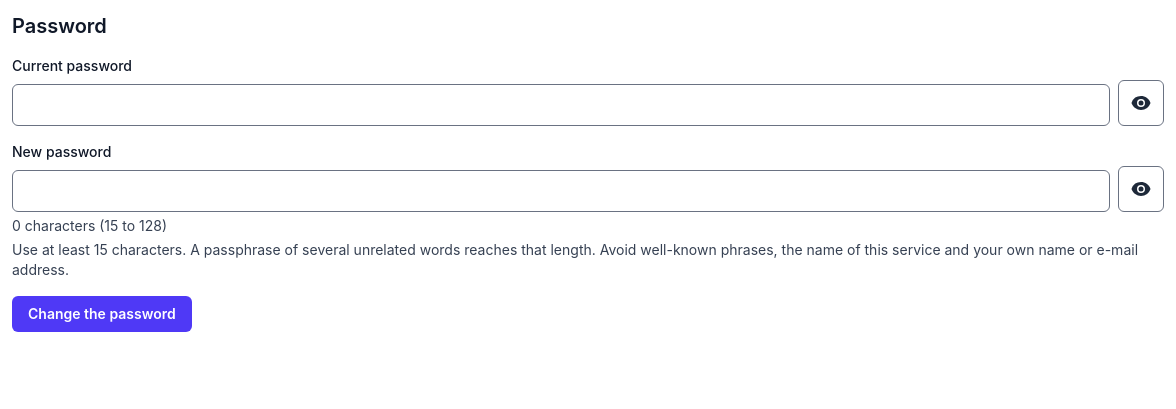
Test: a 422 validation_failed on the current password › invalid shows its message at the current-password field
Step 1. Type "a wrong passphrase" into the password field labelled "Current password" → (561, 105), box x1=12 y1=84 x2=1110 y2=126
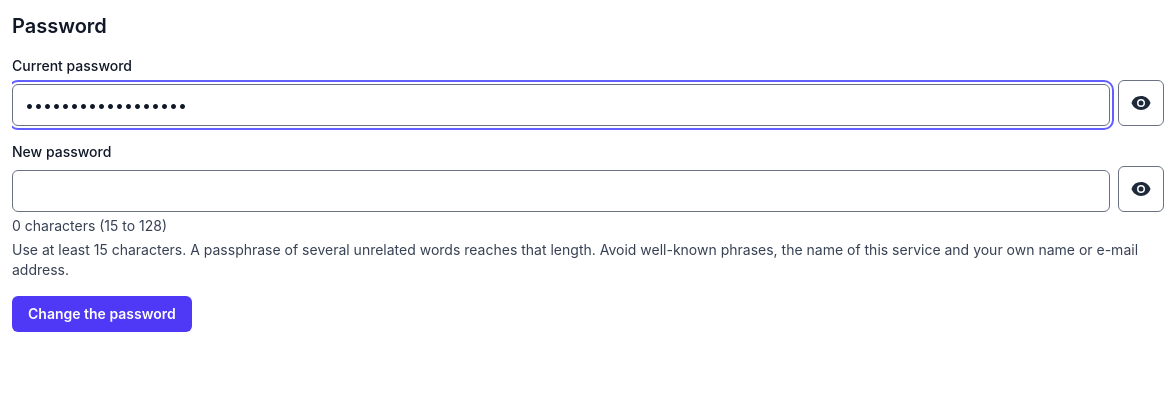
Step 2. Type "a long enough passphrase" into the password field labelled "New password" → (561, 191), box x1=12 y1=170 x2=1110 y2=212
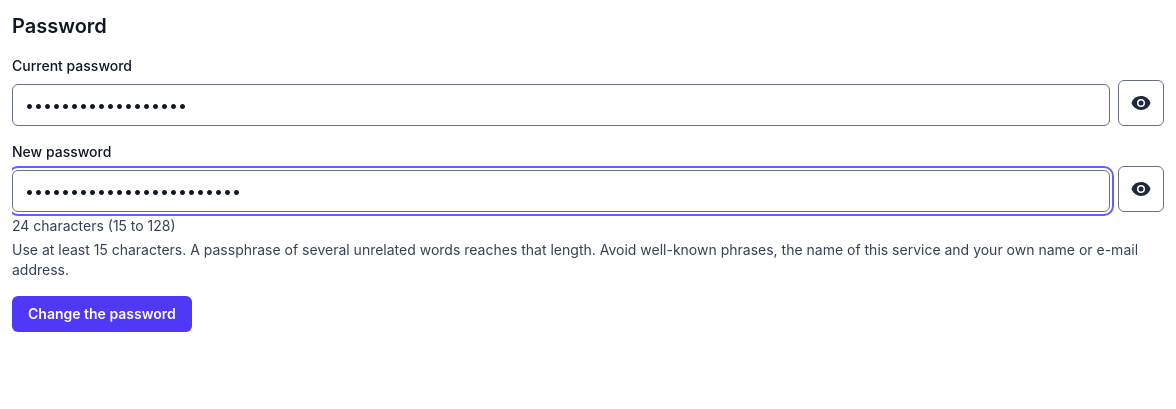
Step 3. Click the button "Change the password" → (102, 314), box x1=12 y1=296 x2=192 y2=332
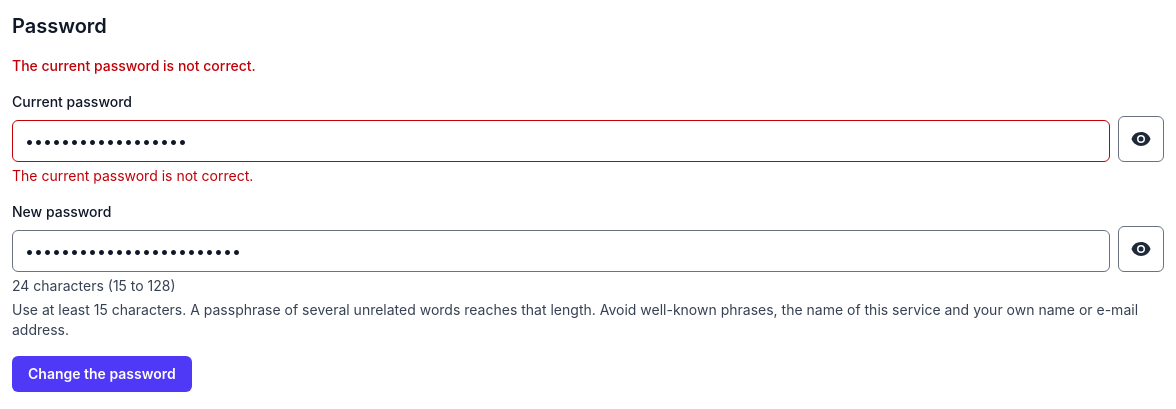
Expected: the text "The current password is not correct." is not shown
Expected: the message reads "The current password is not correct.", x1=12 y1=57 x2=256 y2=74
